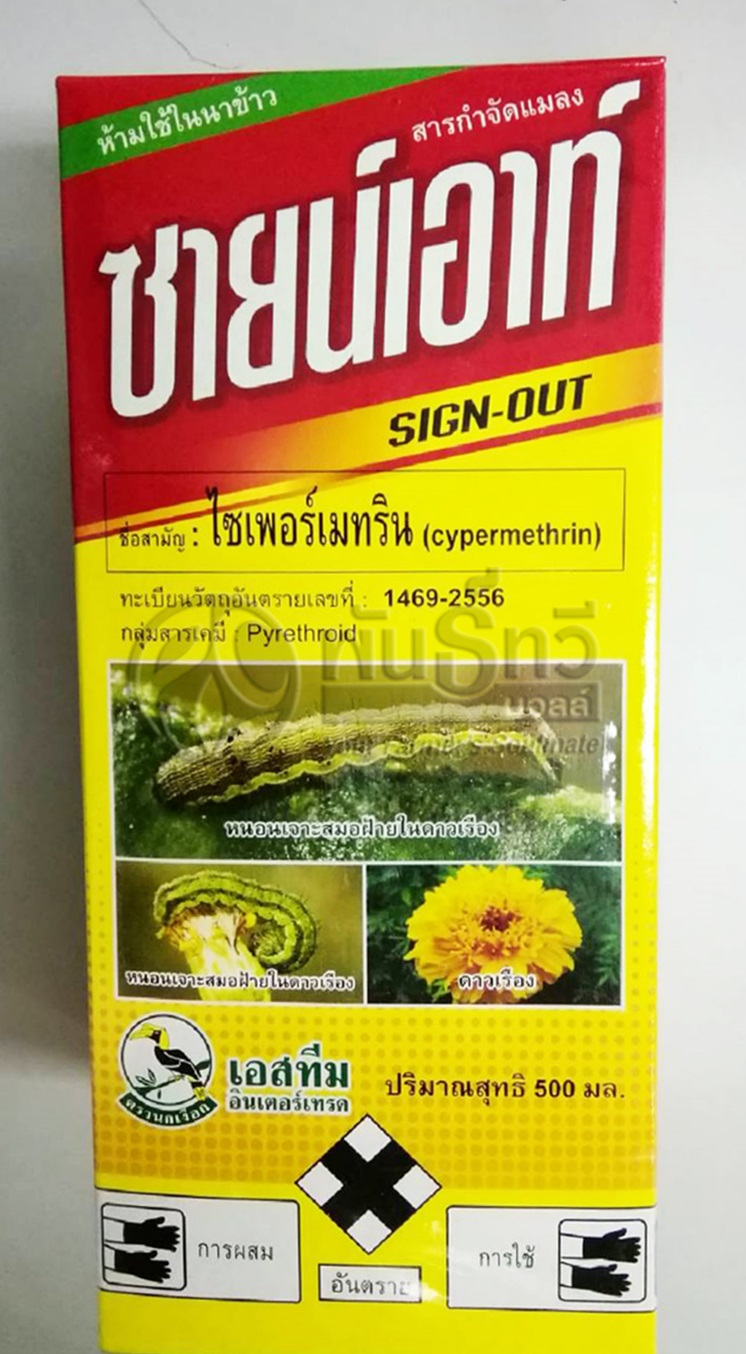Insecticide: (36, 35, 694, 1354)
